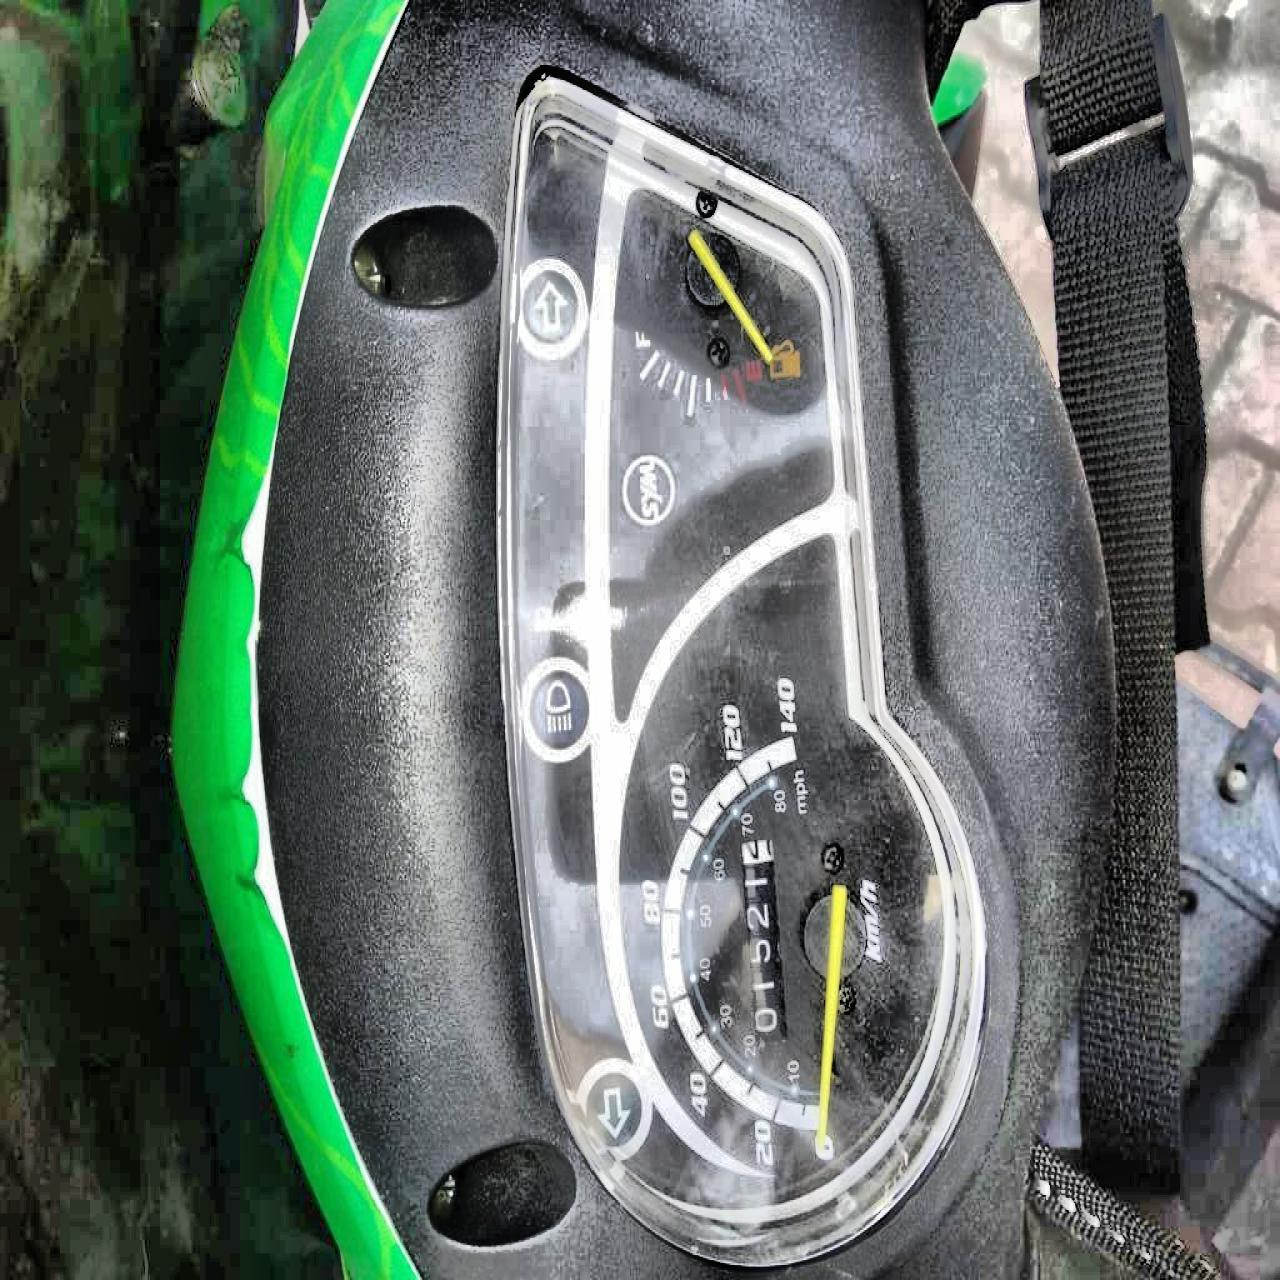0: (753, 1003, 777, 1030), (740, 1032, 755, 1046)
1: (740, 872, 769, 888), (750, 976, 778, 992)
2: (743, 900, 769, 930), (736, 837, 758, 863)
5: (745, 935, 772, 965)
odometer: (734, 833, 791, 1044)
